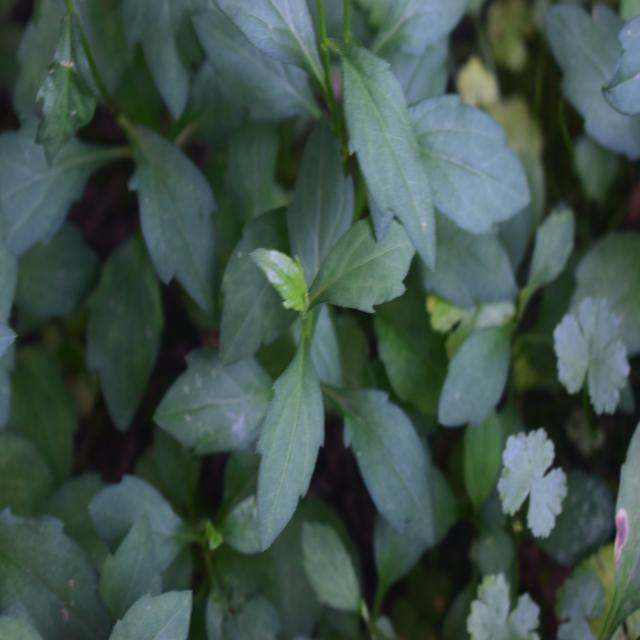Indian aster: (165, 137, 447, 541)
